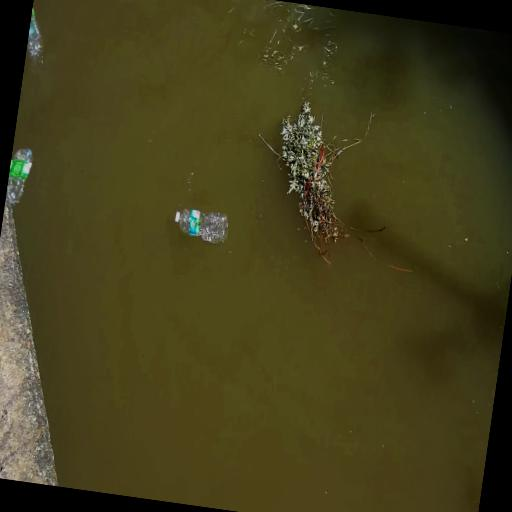plastic: (174, 210, 227, 243), (7, 149, 31, 206), (27, 10, 41, 67)
twig: (280, 102, 364, 261)
